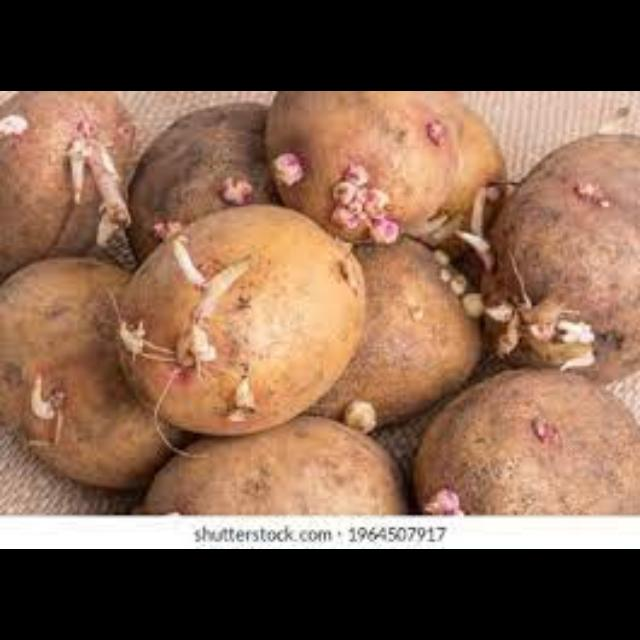Sprouted potato: (106, 205, 374, 438), (466, 95, 640, 395), (282, 224, 502, 434), (1, 250, 190, 490), (264, 91, 522, 259), (92, 91, 310, 269), (402, 380, 640, 528), (107, 414, 415, 518), (0, 91, 146, 273)
